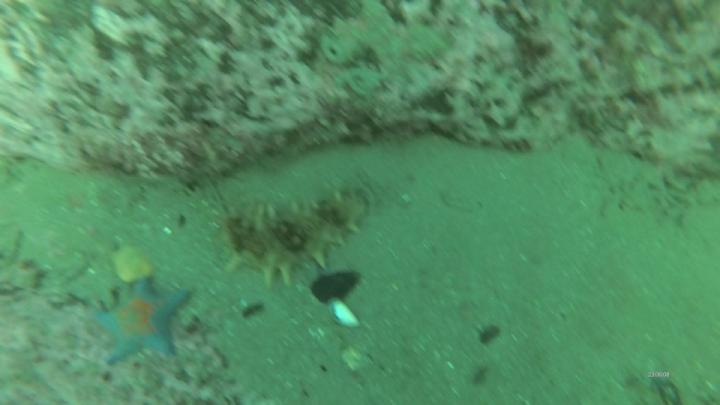holothurian: (216, 184, 375, 290)
starfish: (89, 273, 195, 367)
